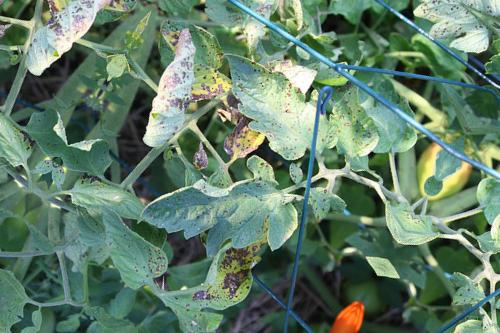Tomato Septoria leaf spot: (131, 113, 321, 300), (191, 37, 355, 181), (152, 219, 280, 333), (118, 30, 230, 160), (134, 6, 258, 120), (71, 202, 181, 300), (307, 80, 399, 174), (186, 0, 309, 62), (296, 174, 357, 234)
